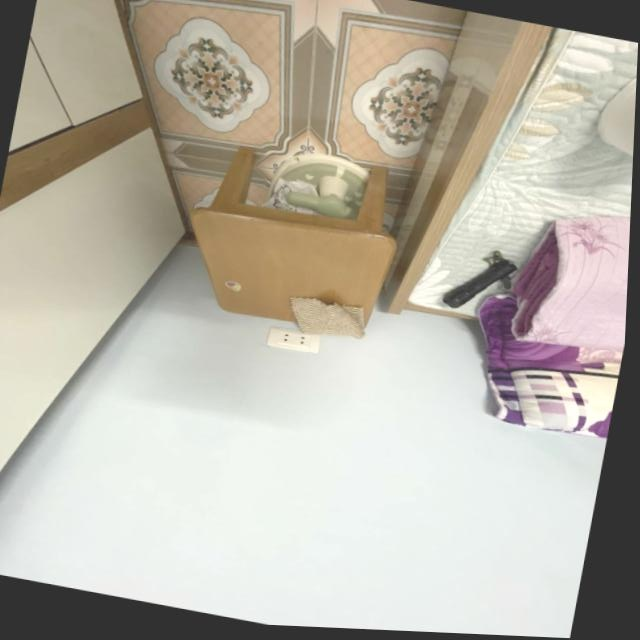outlet: (267, 324, 322, 355)
